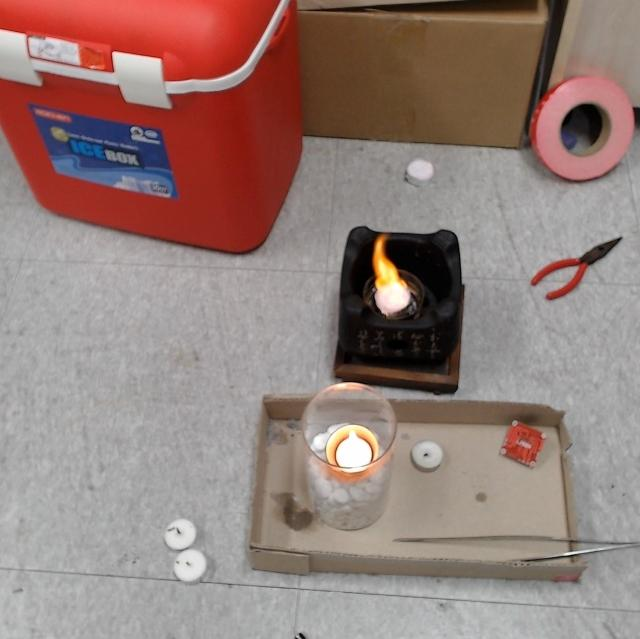Fire: (364, 225, 411, 308), (332, 424, 371, 461)
